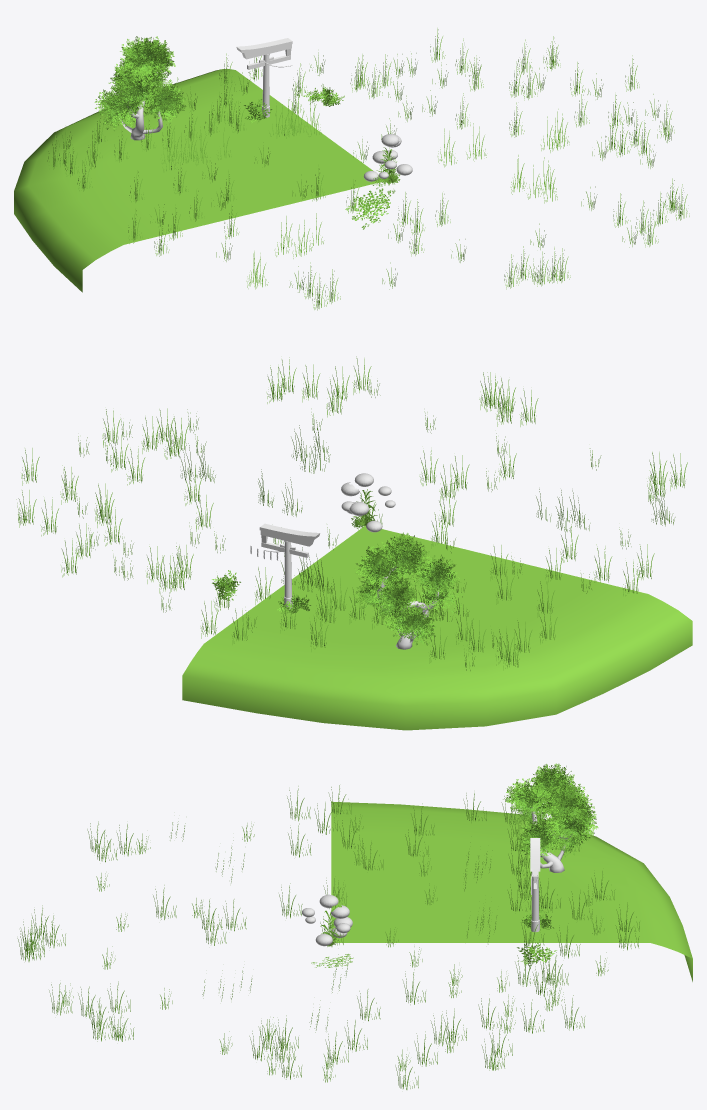
The model's file is JapaneseEnvironment.glb.
3 renders of one model, top to bottom at view 1: azimuth 30°, elevation 25°; view 2: azimuth 150°, elevation 25°; view 3: azimuth 270°, elevation 25°, orthographic. The views are drawn at different scales.
Parts seen in each view (by area): view 1: Ground, Plane.219, Arch, Sphere, Plane.002, Tree trunk; view 2: Ground, Plane.219, Arch, Sphere, Tree trunk; view 3: Ground, Plane.219, Sphere, Arch.
Part boxes in pixels (<box>): Ground: <box>14,69,384,292</box>; Plane.219: <box>94,36,186,130</box>; Arch: <box>236,38,292,117</box>; Sphere: <box>363,134,412,181</box>; Plane.002: <box>345,188,390,229</box>; Tree trunk: <box>120,100,162,140</box>; Ground: <box>182,525,692,730</box>; Plane.219: <box>353,532,462,645</box>; Arch: <box>259,523,320,609</box>; Sphere: <box>341,473,395,532</box>; Tree trunk: <box>377,566,438,649</box>; Ground: <box>331,801,692,981</box>; Plane.219: <box>503,763,598,859</box>; Sphere: <box>302,894,352,946</box>; Arch: <box>530,838,540,932</box>.
Bounding box in the file's own units: 52.36 × 12.77 × 49.08.
203 materials, 201 textured.
